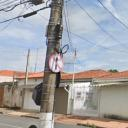NoSeguir: (48, 54, 64, 72)
